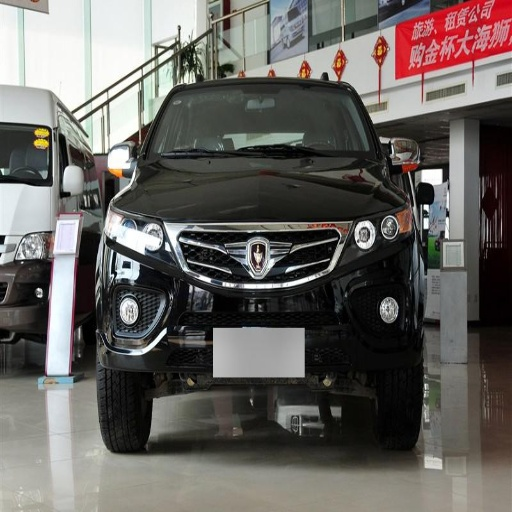front_bumper: (102, 219, 417, 423)
front_right_light: (105, 204, 166, 253)
hood: (118, 157, 407, 220)
